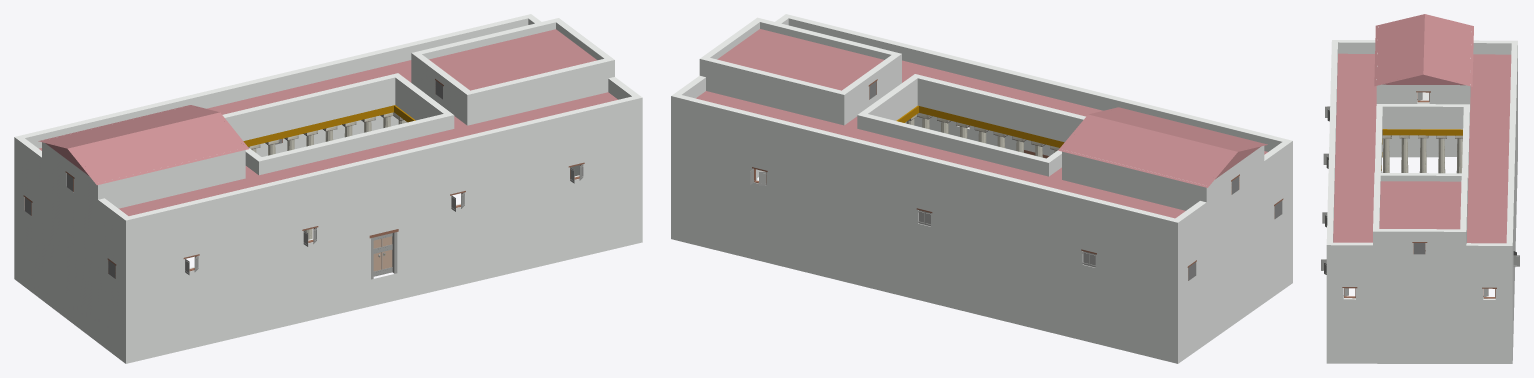
Rendered from LOD_Block_1_30.glb.
3 views of the same model, side by side, from view 1: azimuth 30°, elevation 25°; view 2: azimuth 150°, elevation 25°; view 3: azimuth 270°, elevation 25° (orthographic). The views are drawn at different scales.
Parts seen in each view (by area): view 1: _1.1692; view 2: _1.1692; view 3: _1.1692.
Part boxes in pixels (x1,y1,x2,y2): _1.1692: (14, 14, 642, 363); _1.1692: (671, 14, 1292, 363); _1.1692: (1321, 14, 1519, 363).
Size of the model in its own units: 39.31 by 12.74 by 15.95.
Materials: 3 (3 with a texture image).
